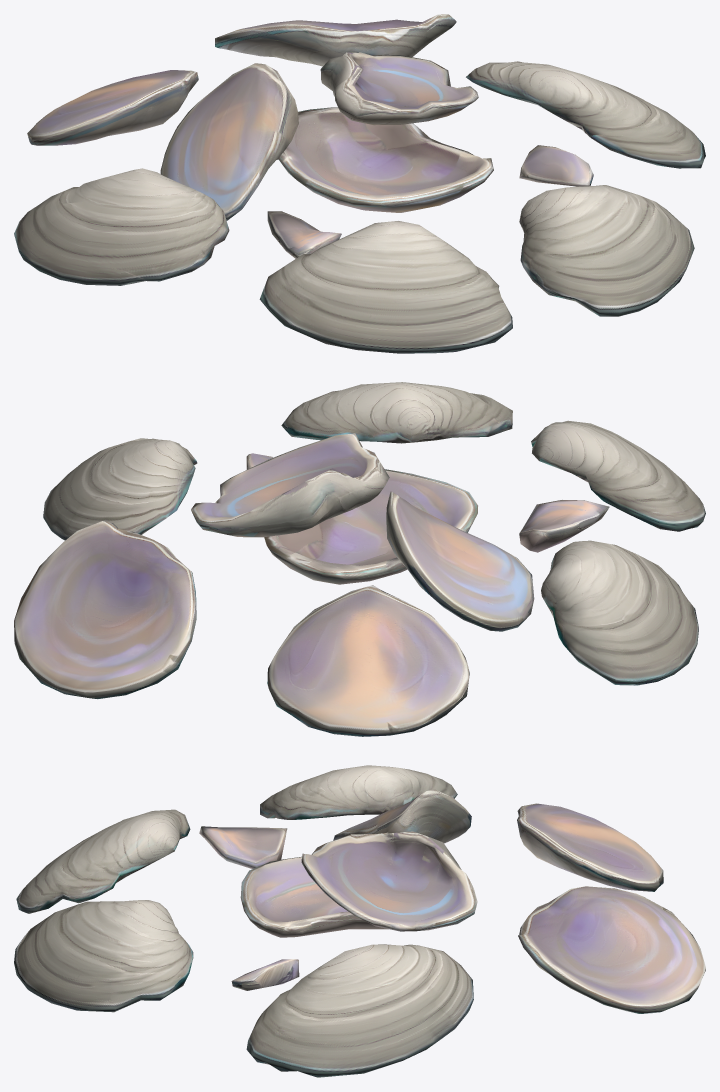
3 renders of one model, top to bottom at view 1: azimuth 30°, elevation 25°; view 2: azimuth 150°, elevation 25°; view 3: azimuth 270°, elevation 25°, orthographic. The views are drawn at different scales.
Visible parts, largest first — view 1: Mesh_0; view 2: Mesh_0; view 3: Mesh_0.
Part boxes in pixels (bbox=[...]): Mesh_0: bbox=[14, 14, 705, 353]; Mesh_0: bbox=[14, 382, 705, 736]; Mesh_0: bbox=[14, 765, 705, 1077].
Size of the model in its own units: 1.87 by 0.3672 by 1.91.
Materials: 1 (1 with a texture image).
